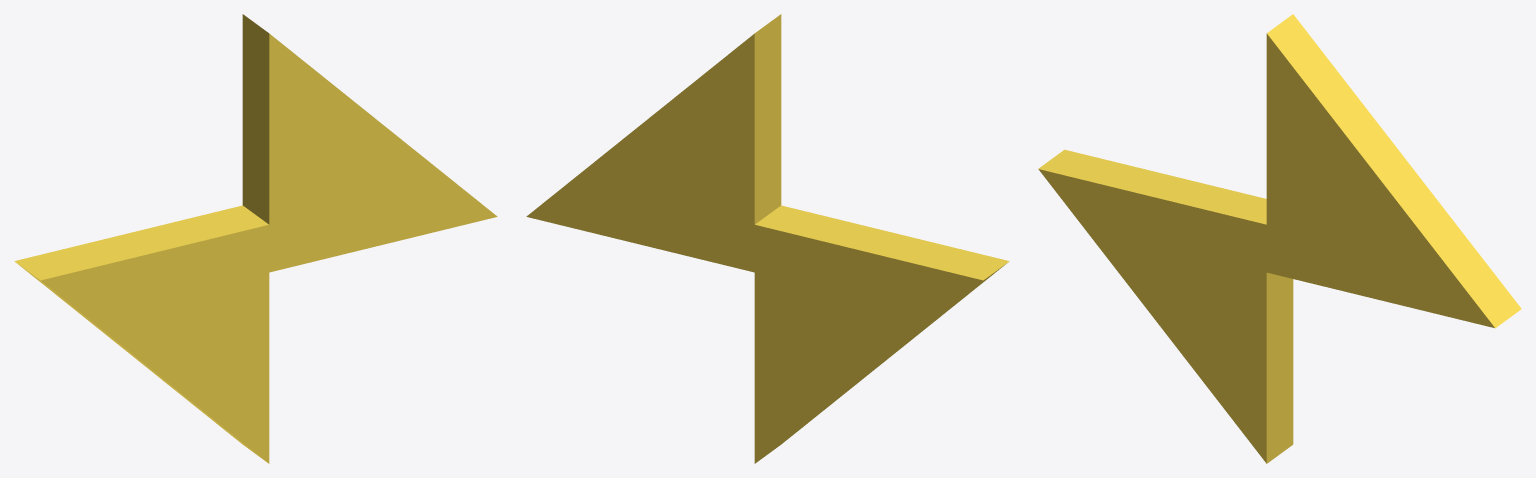
The model's file is simsek.obj.
3 views of the same model, side by side, from view 1: azimuth 30°, elevation 25°; view 2: azimuth 150°, elevation 25°; view 3: azimuth 330°, elevation 25° (orthographic).
Size of the model in its own units: 10 by 9 by 1.
